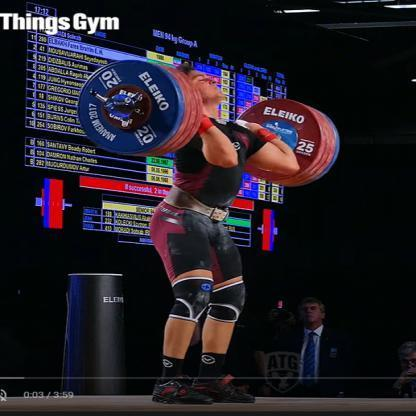barbell: (78, 60, 340, 186)
